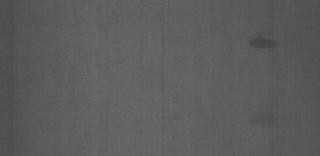oil spot: (245, 34, 285, 50)
